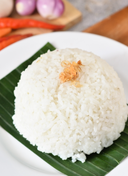Nasi Putih: (6, 48, 126, 159)
